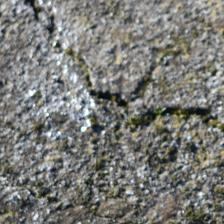Crack: (16, 78, 96, 155), (23, 74, 68, 142)
